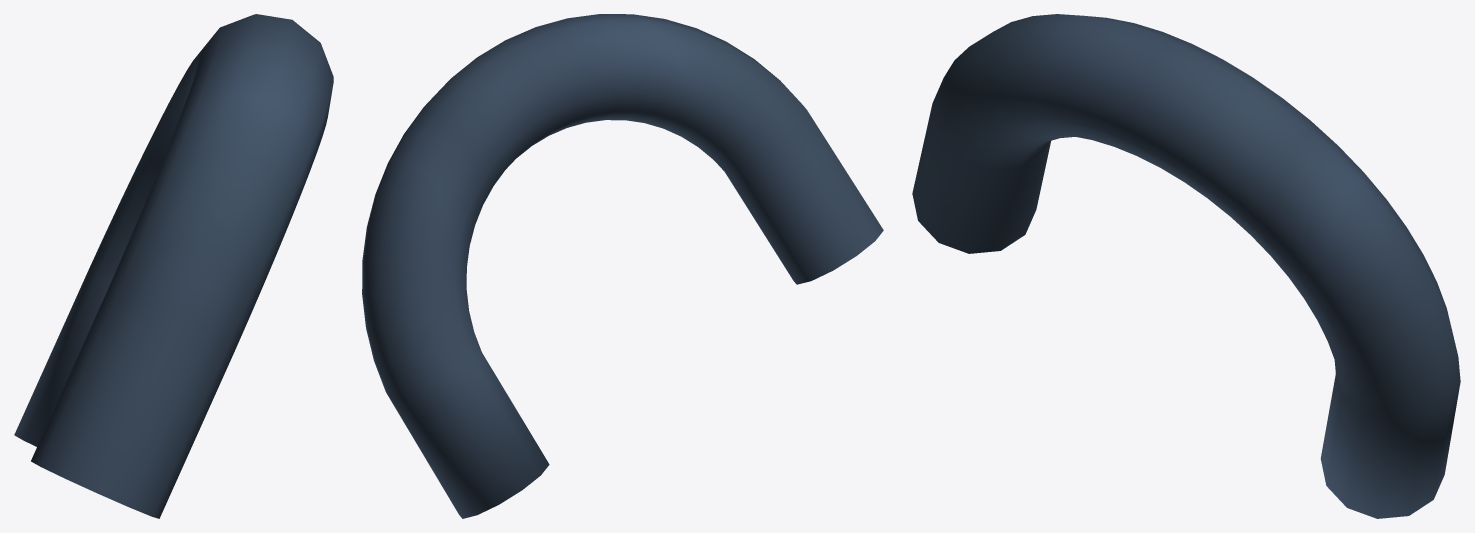
File: Arco Candado.fbx
3 views of the same model, side by side, from view 1: azimuth 30°, elevation 25°; view 2: azimuth 150°, elevation 25°; view 3: azimuth 270°, elevation 25° (orthographic). The views are drawn at different scales.
Parts seen in each view (by area): view 1: ArcoCand; view 2: ArcoCand; view 3: ArcoCand.
Part boxes in pixels (x1,y1,x2,y2): ArcoCand: [14, 14, 333, 518]; ArcoCand: [362, 14, 883, 518]; ArcoCand: [912, 14, 1460, 518].
Bounding box in the file's own units: 6.19 × 7.06 × 7.28.
